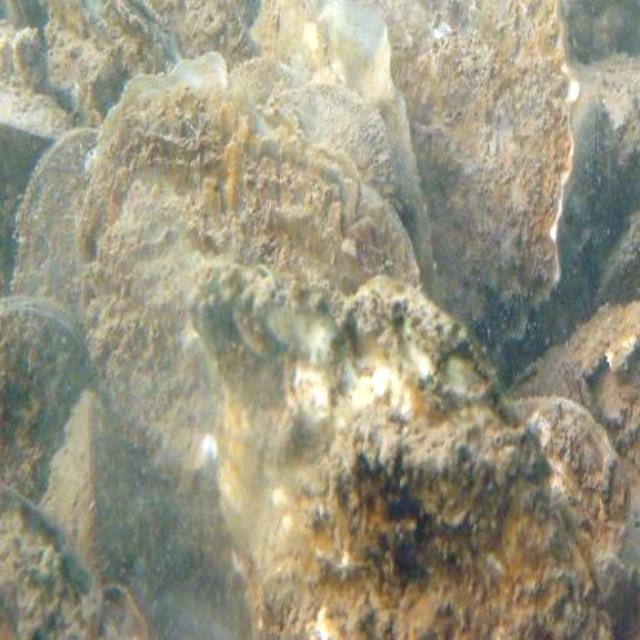Oyster-Closed: (73, 51, 422, 640), (191, 271, 614, 640), (376, 0, 577, 370), (253, 0, 421, 242), (0, 473, 144, 640), (508, 393, 626, 570), (36, 393, 139, 593), (0, 293, 89, 498), (13, 130, 99, 338), (272, 84, 394, 201), (567, 97, 617, 285), (175, 0, 261, 73), (0, 80, 71, 157), (585, 556, 640, 640), (228, 61, 300, 104)
